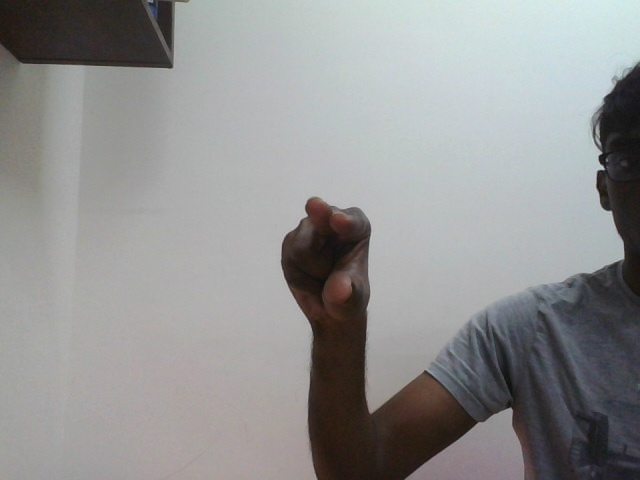No: (282, 196, 372, 321)
